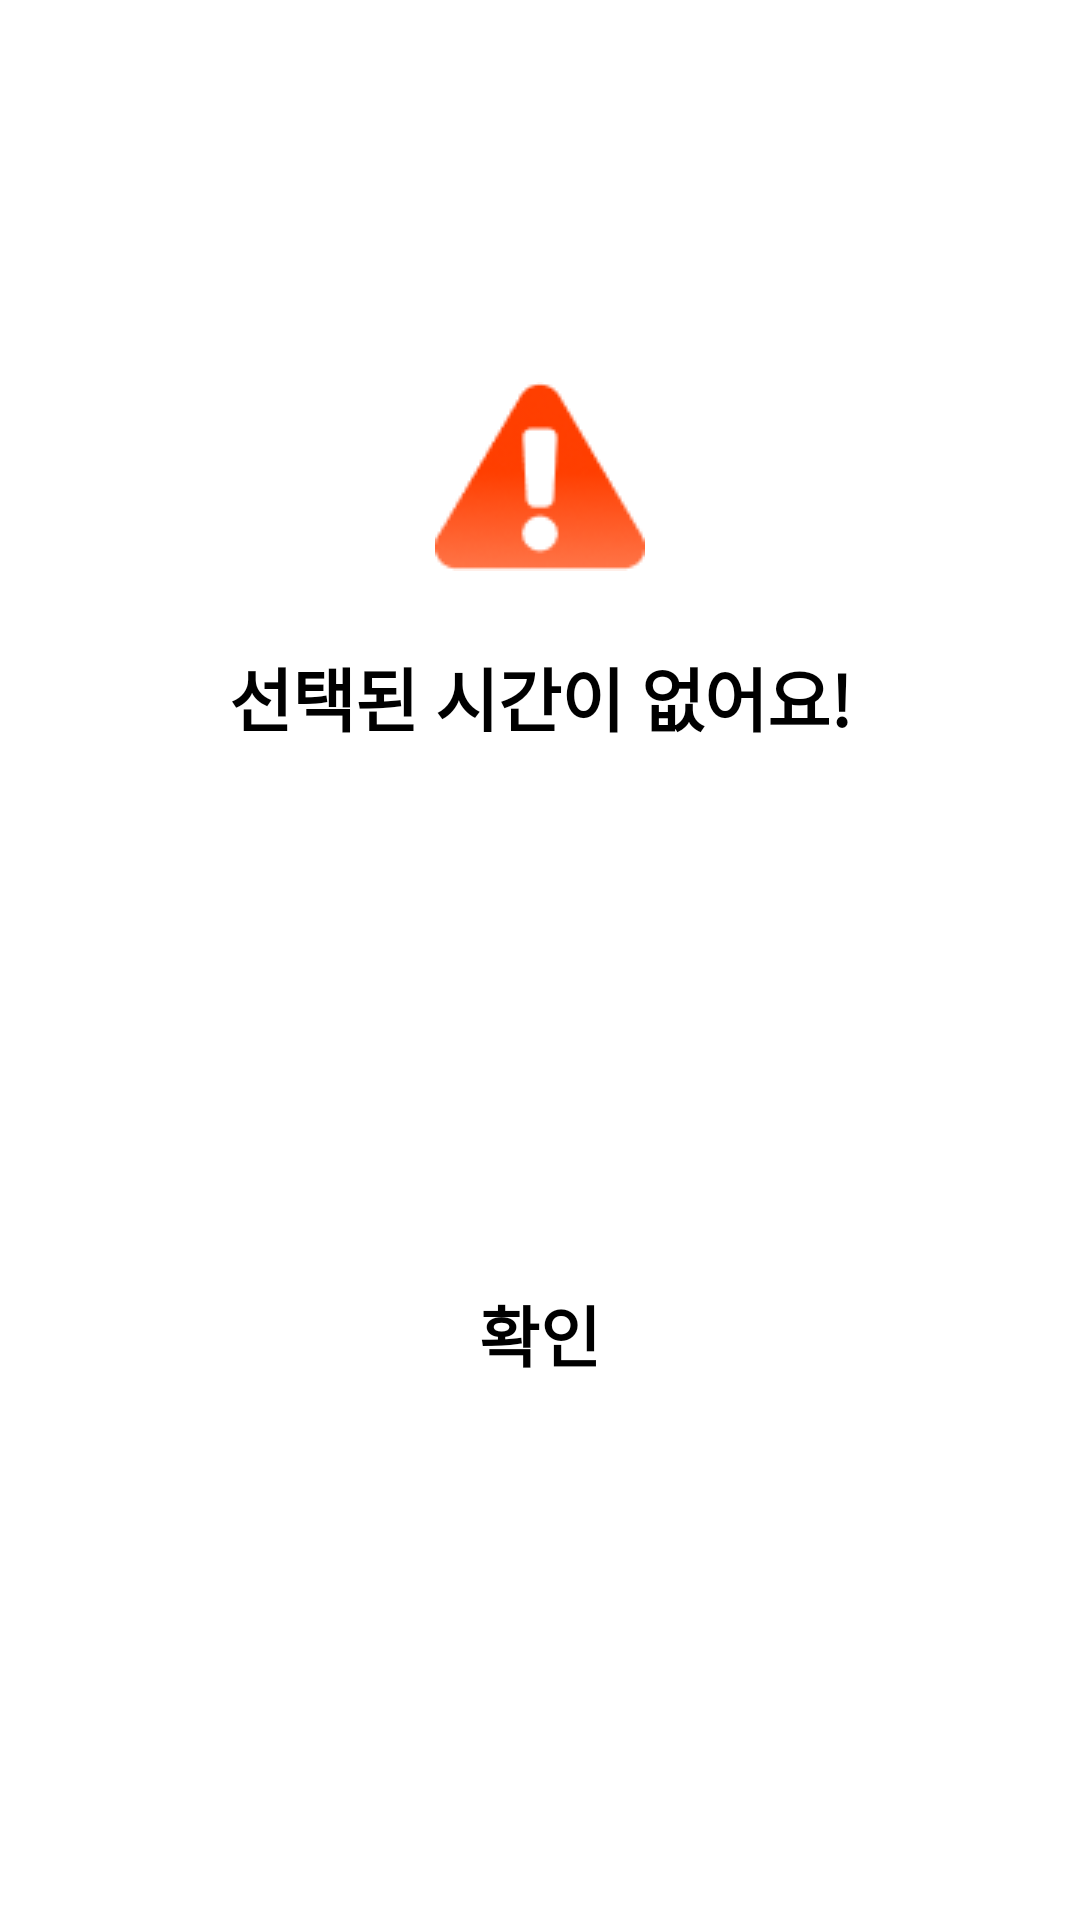

Icons on this 1080x1920 Android screen, each with its box as bbox(x1, y1, x2, y2):
exclamation mark: bbox(435, 384, 645, 569)
